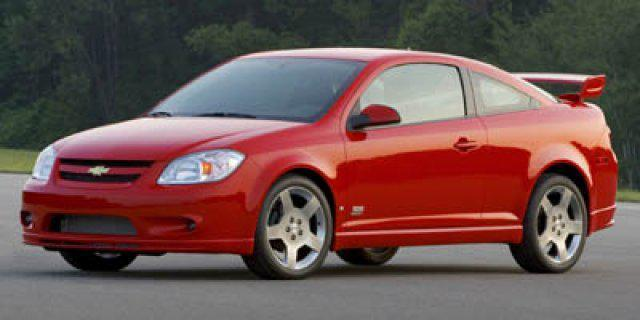Car: (1, 25, 640, 291)
